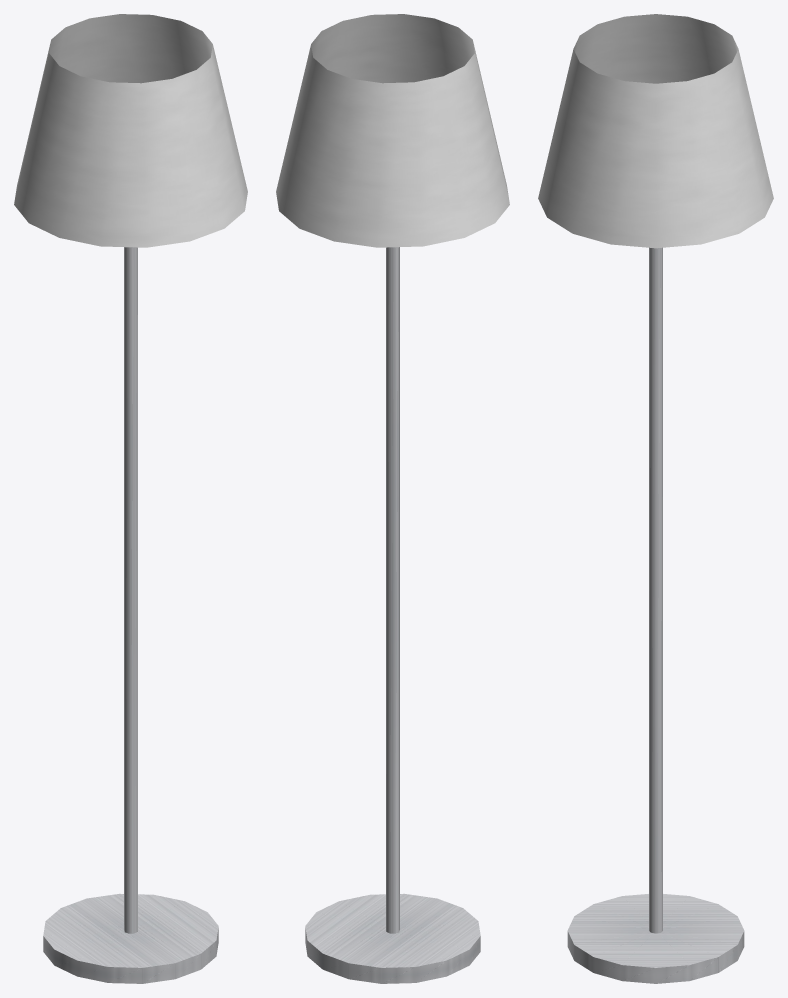
File: lamp_floor.obj
The picture shows the model from 3 angles, left to right: view 1: azimuth 30°, elevation 25°; view 2: azimuth 150°, elevation 25°; view 3: azimuth 270°, elevation 25°; orthographic projection.
Parts seen in each view (by area): view 1: lamp_floor; view 2: lamp_floor; view 3: lamp_floor.
Boxes of the visible parts, x1,y1,x2,y2 form: lamp_floor: (14,14,247,983); lamp_floor: (276,14,509,983); lamp_floor: (538,14,773,983).
Bounding box in the file's own units: 0.4 × 1.68 × 0.4.
3 materials, 2 textured.
